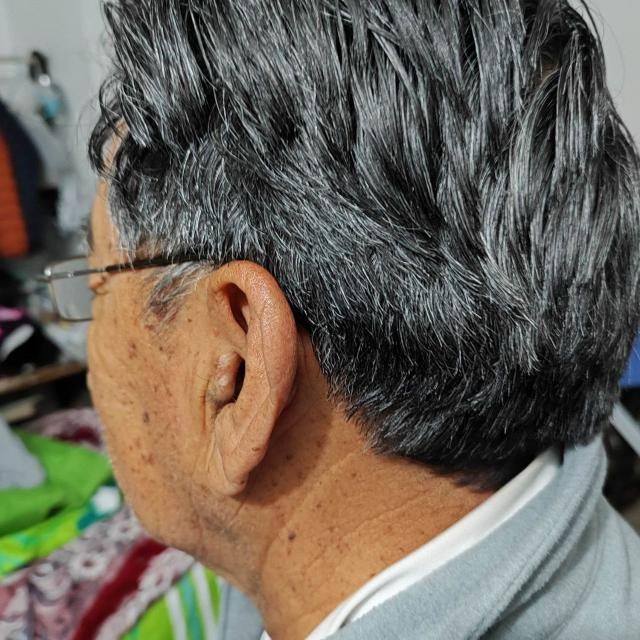ear: (205, 262, 299, 496)
